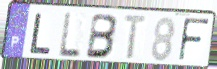8: (150, 16, 177, 63)
B: (84, 13, 120, 61)
F: (177, 16, 211, 64)
L: (57, 12, 82, 59), (28, 12, 53, 56)
T: (122, 13, 150, 62)
